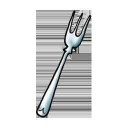fork: (35, 8, 100, 125)
